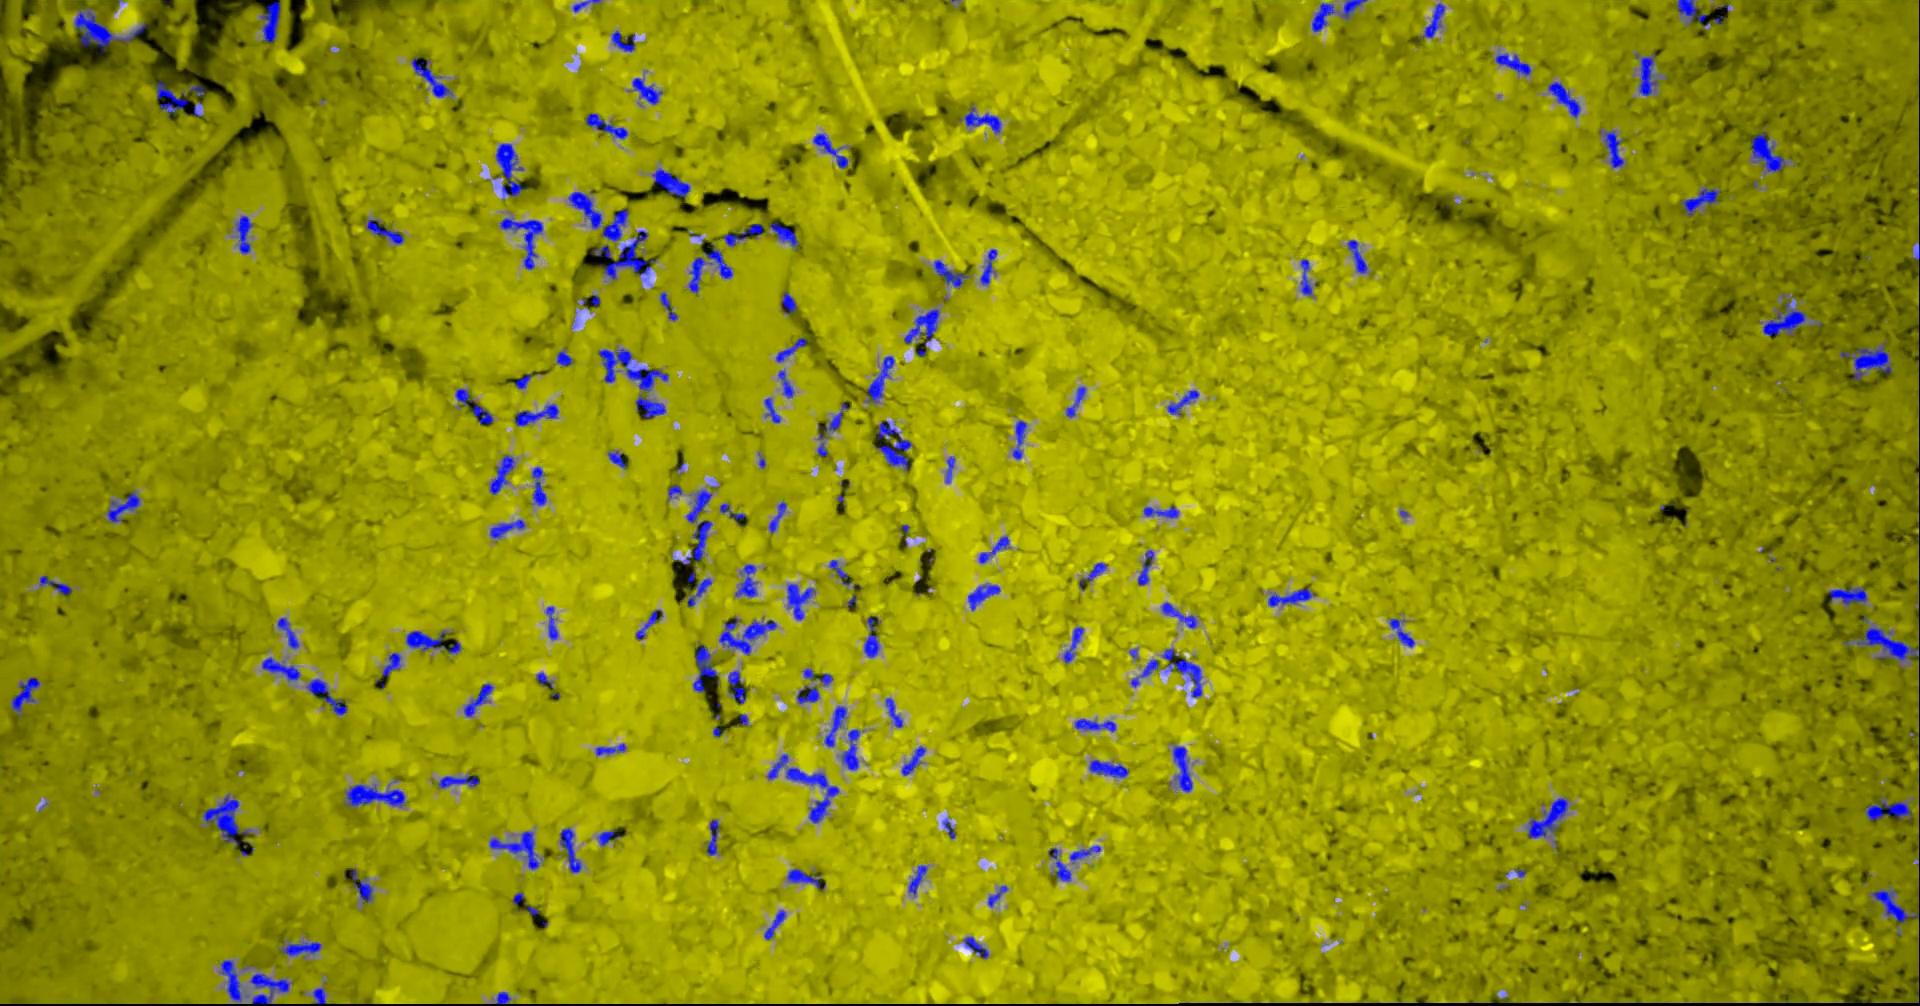ant: (766, 753, 838, 823), (74, 6, 146, 53), (592, 230, 657, 279), (598, 348, 668, 391), (201, 794, 249, 845), (681, 489, 711, 564), (499, 217, 542, 269), (717, 616, 776, 654), (688, 243, 731, 293), (1857, 627, 1919, 661), (1162, 648, 1201, 697), (488, 831, 538, 869), (1839, 343, 1891, 380), (817, 401, 850, 456), (495, 144, 527, 196), (1526, 798, 1567, 838), (411, 57, 452, 97), (877, 420, 910, 469), (1870, 889, 1919, 922), (1763, 301, 1806, 335), (1750, 131, 1785, 171), (305, 678, 345, 714), (345, 782, 405, 807), (455, 387, 493, 424), (903, 307, 938, 345), (866, 354, 894, 401), (249, 973, 290, 1005), (405, 630, 461, 653), (155, 79, 187, 118), (692, 644, 717, 692), (568, 191, 601, 227), (1547, 81, 1580, 117), (811, 133, 847, 166), (651, 166, 690, 197), (11, 677, 39, 716), (1417, 3, 1444, 43), (959, 107, 999, 133), (585, 113, 627, 138), (1681, 187, 1719, 215), (559, 827, 582, 873), (786, 583, 815, 619), (489, 453, 514, 494), (514, 403, 557, 426), (1865, 799, 1911, 821), (107, 492, 138, 522), (463, 683, 493, 716), (933, 259, 969, 286), (1161, 601, 1196, 627), (366, 218, 403, 244), (1172, 746, 1192, 791), (601, 207, 629, 240), (1267, 587, 1316, 606), (262, 657, 300, 681), (1636, 53, 1657, 95), (824, 705, 846, 747), (220, 959, 241, 1001), (841, 729, 863, 768), (1599, 130, 1623, 166), (723, 224, 762, 245), (978, 536, 1010, 563), (1676, 0, 1709, 25), (787, 868, 825, 889), (635, 608, 662, 639), (775, 337, 806, 362), (1166, 390, 1197, 415), (968, 584, 999, 610), (260, 0, 279, 42), (1078, 561, 1106, 589), (1130, 659, 1158, 687), (632, 77, 662, 104), (1495, 53, 1530, 75), (1048, 847, 1070, 880), (349, 868, 372, 901), (768, 222, 797, 248), (1062, 627, 1083, 662), (1389, 619, 1415, 647), (1829, 586, 1865, 605), (1088, 760, 1128, 777), (1347, 239, 1368, 273), (635, 395, 665, 418), (489, 520, 524, 539), (1310, 3, 1335, 30), (687, 578, 711, 606), (902, 746, 924, 775), (277, 617, 298, 648), (735, 564, 756, 596), (763, 909, 785, 939), (235, 215, 251, 253), (863, 616, 879, 657), (828, 559, 851, 586), (979, 248, 996, 285), (39, 575, 71, 594), (531, 466, 546, 506), (768, 500, 786, 533), (728, 669, 745, 702), (1065, 386, 1084, 417), (908, 865, 927, 895), (1137, 550, 1153, 584), (1300, 258, 1316, 295), (281, 941, 320, 955), (963, 936, 988, 958), (1069, 845, 1100, 862), (1340, 0, 1368, 19), (1012, 420, 1026, 459), (437, 775, 479, 788), (1074, 718, 1115, 730), (719, 503, 745, 522), (659, 292, 677, 320), (803, 668, 832, 685), (885, 697, 902, 727), (611, 30, 634, 51), (1143, 506, 1178, 518), (706, 819, 719, 855), (382, 652, 400, 676), (777, 370, 792, 398), (987, 885, 1007, 906), (796, 685, 819, 702), (763, 398, 780, 422), (596, 829, 620, 846), (546, 606, 557, 639), (781, 291, 796, 314), (596, 743, 625, 754), (571, 0, 599, 11), (607, 451, 625, 467), (942, 818, 955, 838), (536, 672, 552, 687), (514, 373, 532, 387), (312, 987, 326, 1005), (945, 456, 954, 483), (556, 351, 571, 365), (495, 991, 510, 1005), (510, 890, 524, 904), (667, 484, 682, 497), (188, 85, 204, 97)
